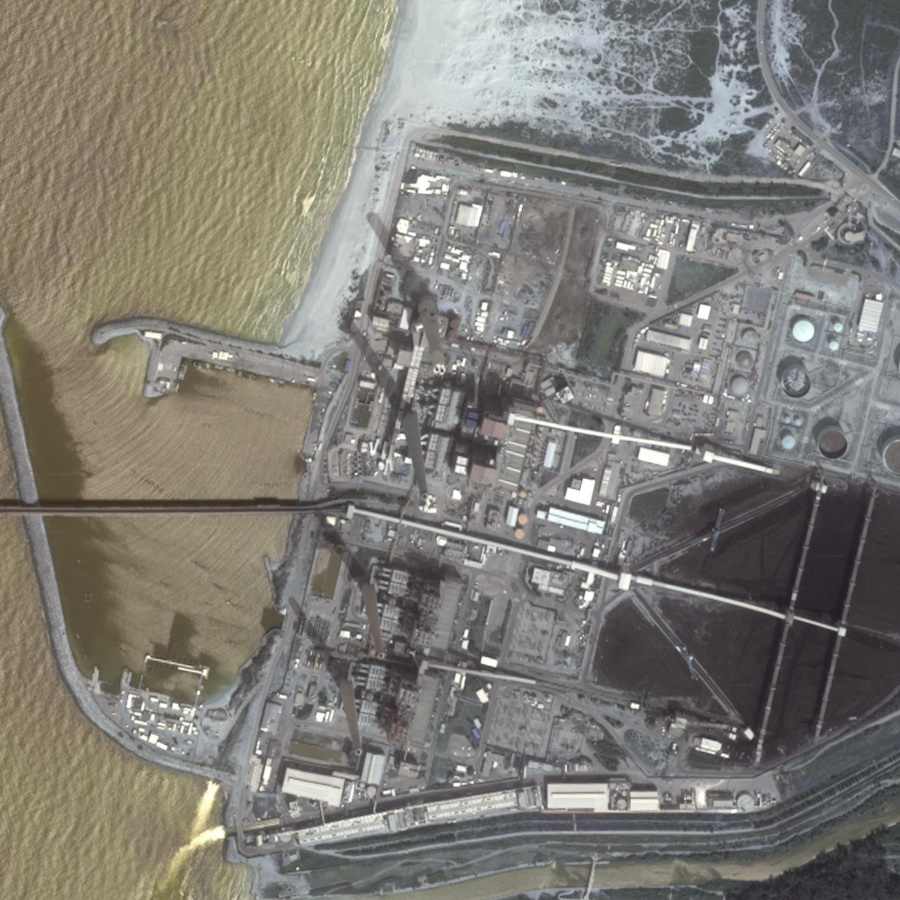PowerPlant: (255, 342, 516, 763)
